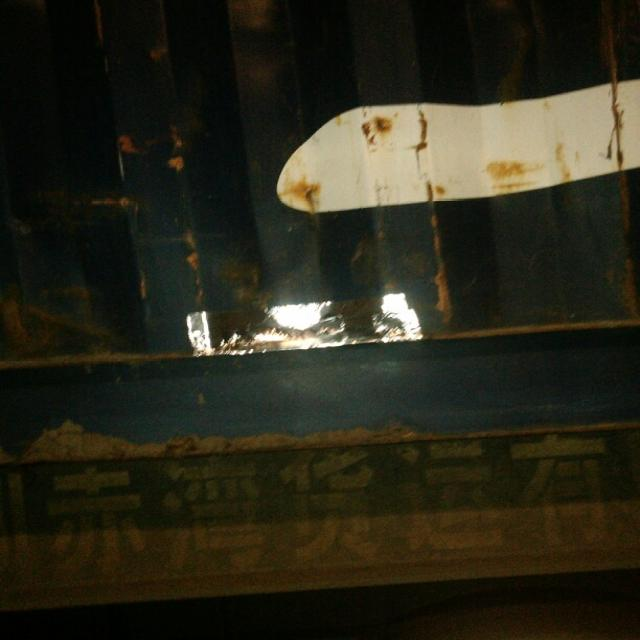rust: (594, 8, 639, 220), (408, 105, 439, 161), (282, 181, 331, 213), (357, 107, 394, 146)
